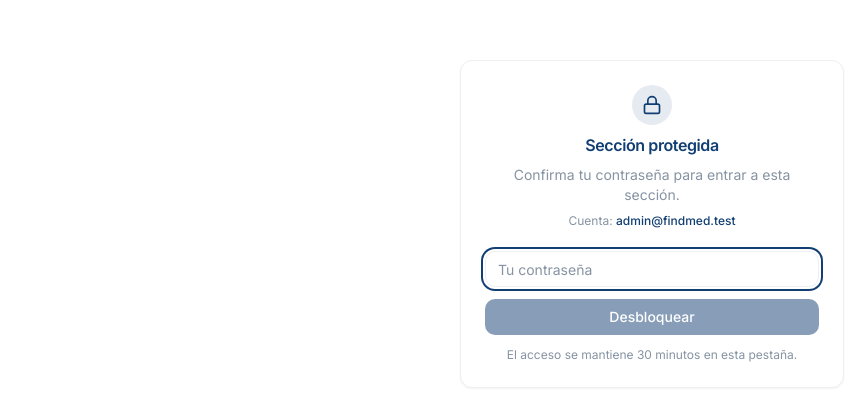
Test: PasswordGate › con la contraseña correcta re-autentica la cuenta conectada y desbloquea
The image size is (861, 405).
Type "la-de-mi-cuenta" into the password field labelled "Tu contraseña" at (652, 269), box [485,251,819,287]
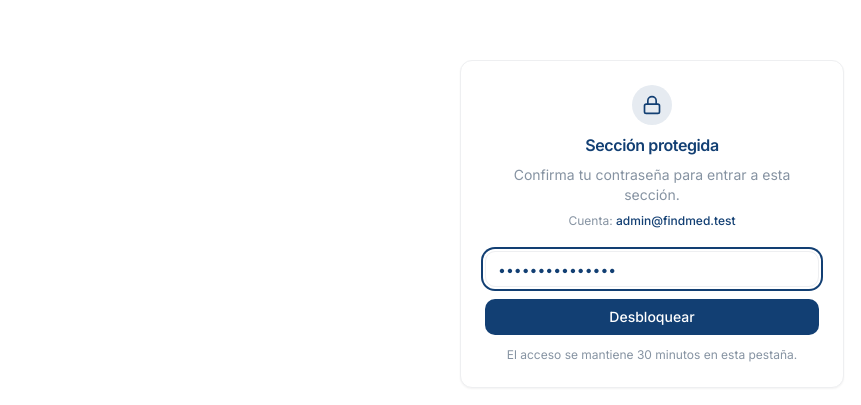
Click the button "Desbloquear" at (652, 317), box [485,299,819,335]
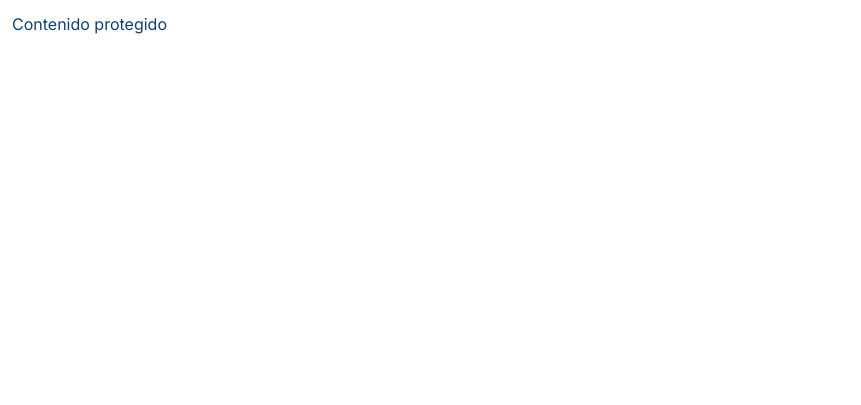
Expected: the text "Contenido protegido" is shown, [12,14,167,34]
